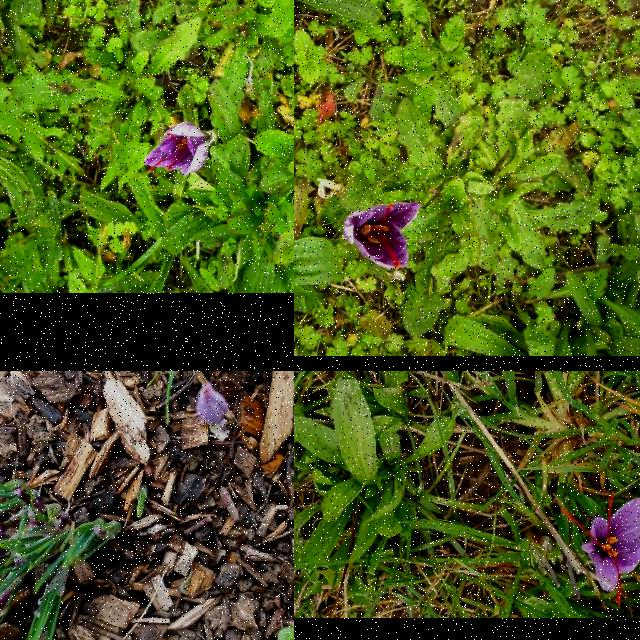flower: (560, 494, 640, 606), (344, 202, 424, 270), (143, 122, 211, 176), (196, 384, 230, 426)
